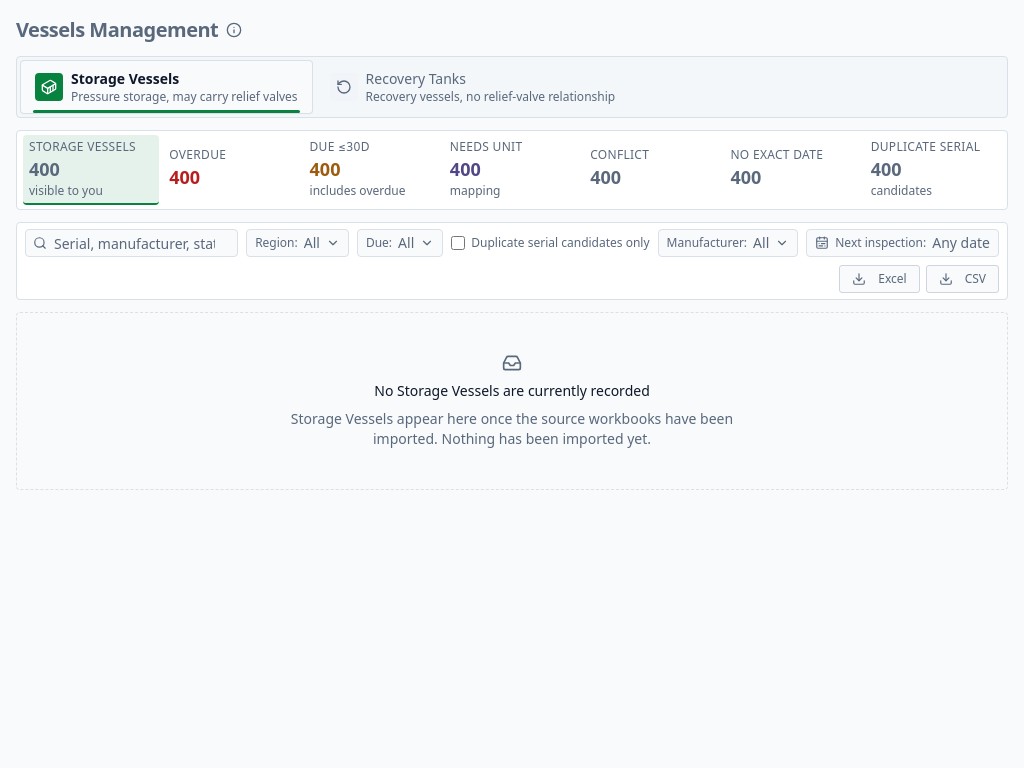
Test case: Asset-type isolation › pins asset_type on the unfiltered count used to detect "no match"
Type "zzz" into the search field named "search storage vessels" at (132, 243), box [25, 229, 238, 257]
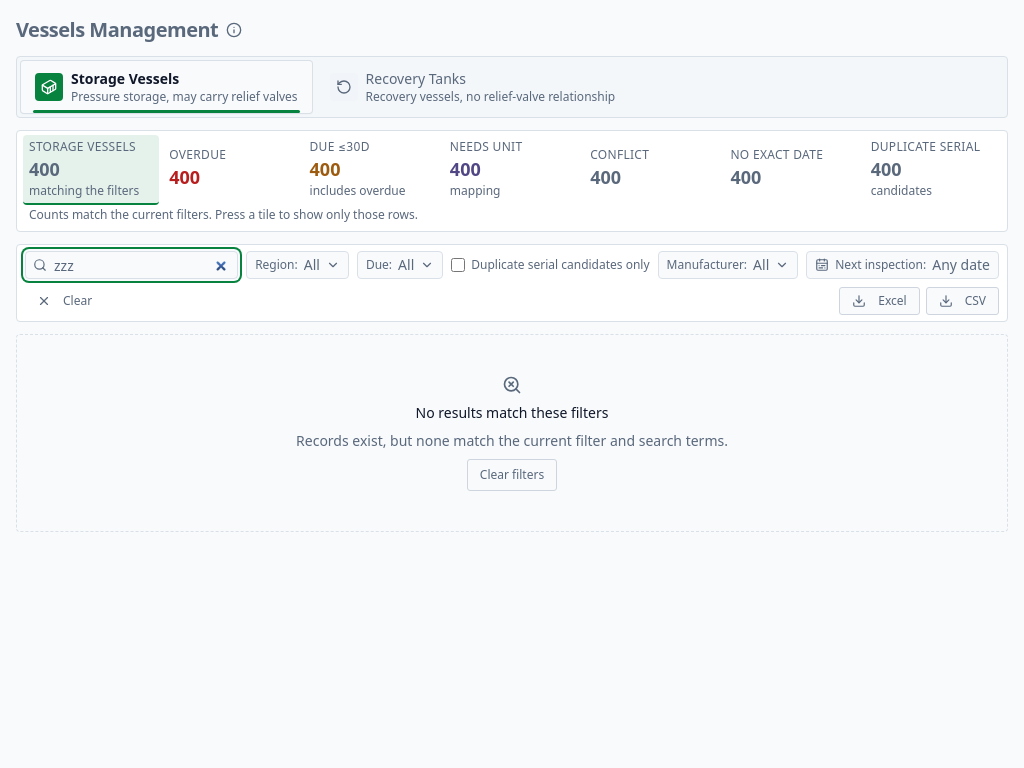
Check: the text "No results match these filters" is shown, box [416, 403, 608, 423]
